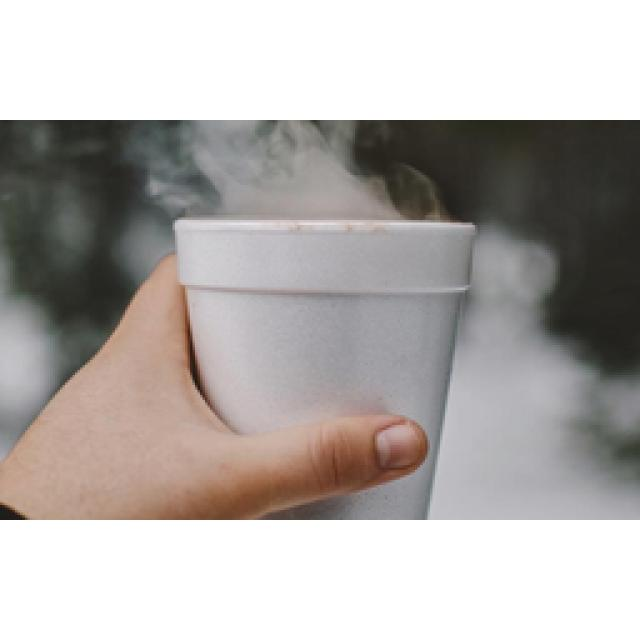styrofoam: (178, 220, 472, 518)
